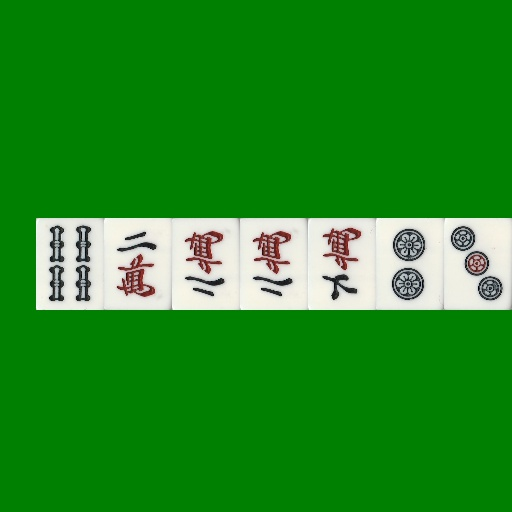2m: (104, 218, 172, 310), (172, 218, 240, 310), (240, 218, 308, 310)
2p: (376, 218, 444, 310)
3p: (444, 218, 512, 310)
4s: (36, 218, 104, 310)
7m: (308, 218, 376, 310)
